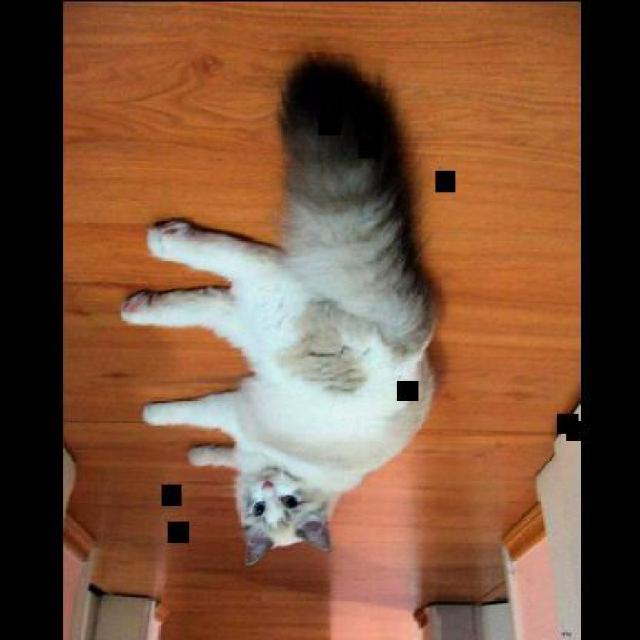unauthorized: (119, 49, 438, 566)
